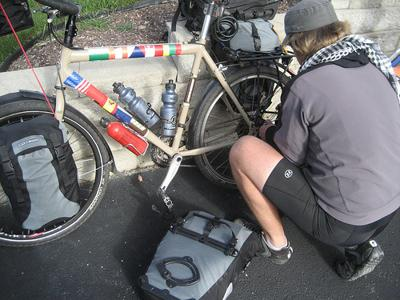person: (230, 2, 400, 283)
